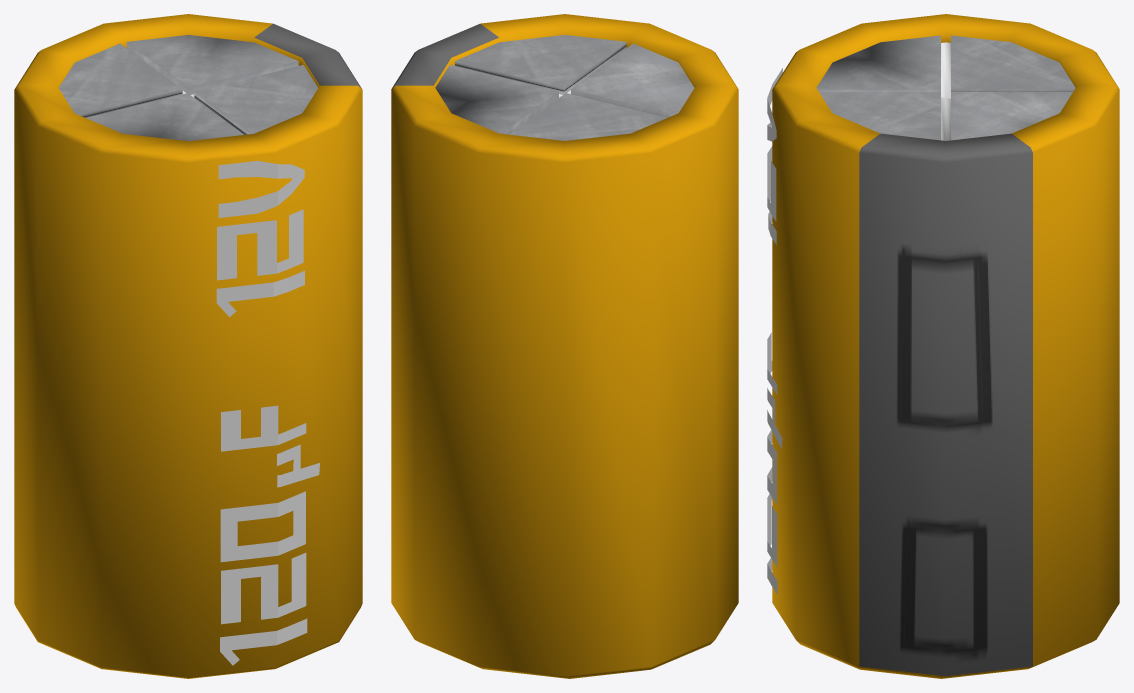
The model's file is kondensator_zolty.fbx.
The picture shows the model from 3 angles, left to right: view 1: azimuth 30°, elevation 25°; view 2: azimuth 150°, elevation 25°; view 3: azimuth 270°, elevation 25°; orthographic projection.
Visible parts, largest first — view 1: Kondensator_zolty; view 2: Kondensator_zolty; view 3: Kondensator_zolty.
Boxes of the visible parts, x1,y1,x2,y2 form: Kondensator_zolty: [14, 14, 362, 678]; Kondensator_zolty: [391, 14, 738, 678]; Kondensator_zolty: [767, 14, 1119, 678].
Size of the model in its own units: 200 by 331 by 203.
